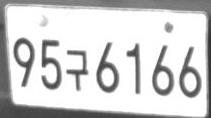1: (123, 42, 147, 94)
5: (40, 39, 62, 90)
6: (178, 46, 202, 98), (151, 45, 175, 96), (95, 42, 119, 92)
9: (13, 36, 35, 87)
구: (65, 49, 89, 92)
